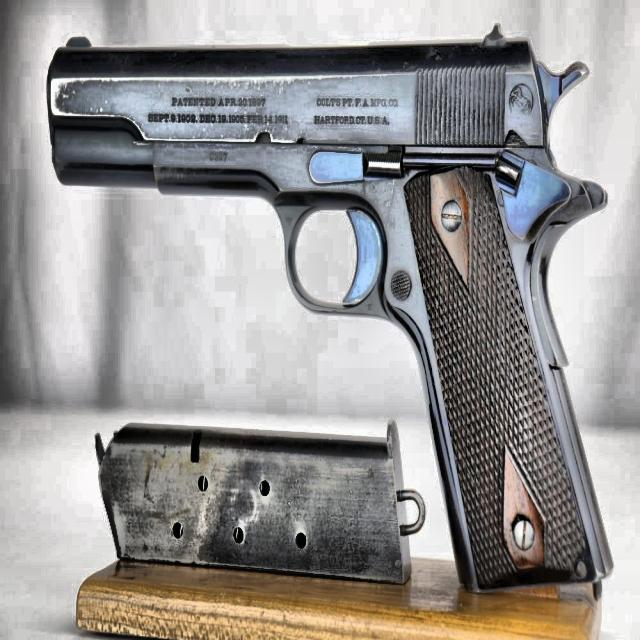Colt m1911: (46, 24, 613, 597)
